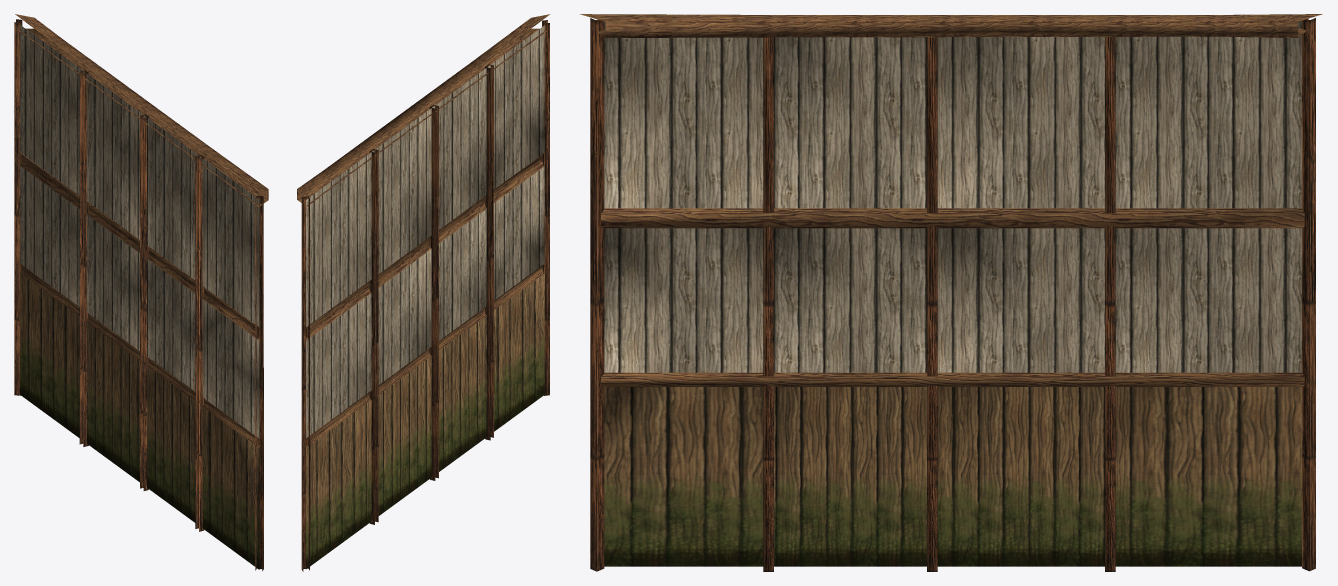
Rendered from LAKETOWN_WAREHOUSE3_PS_WH3_SIDEWALL99848__GX.fbx.
The picture shows the model from 3 angles, left to right: view 1: azimuth 30°, elevation 25°; view 2: azimuth 150°, elevation 25°; view 3: azimuth 270°, elevation 25°; orthographic projection. The views are drawn at different scales.
Parts seen in each view (by area): view 1: LAKETOWN_WAREHOUSE3_PS_WH3_SIDEWALL99848__GX; view 2: LAKETOWN_WAREHOUSE3_PS_WH3_SIDEWALL99848__GX; view 3: LAKETOWN_WAREHOUSE3_PS_WH3_SIDEWALL99848__GX.
Part boxes in pixels (x1,y1,x2,y2): LAKETOWN_WAREHOUSE3_PS_WH3_SIDEWALL99848__GX: (14,14,268,571); LAKETOWN_WAREHOUSE3_PS_WH3_SIDEWALL99848__GX: (297,14,550,571); LAKETOWN_WAREHOUSE3_PS_WH3_SIDEWALL99848__GX: (580,14,1322,571).
Bounding box in the file's own units: 6348 × 136952 × 165545.
6 materials, 6 textured.
